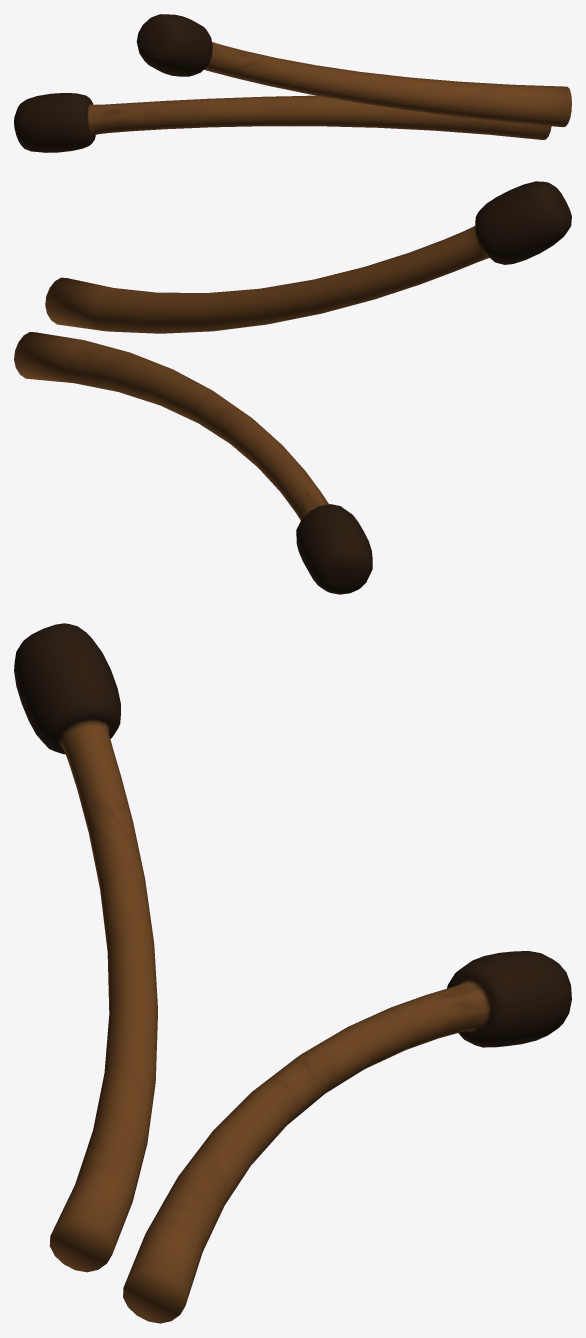
Rendered from AntenasDeLibelula.fbx.
3 renders of one model, top to bottom at view 1: azimuth 30°, elevation 25°; view 2: azimuth 150°, elevation 25°; view 3: azimuth 270°, elevation 25°, orthographic. The views are drawn at different scales.
Parts seen in each view (by area): view 1: Antenas de Libelula; view 2: Antenas de Libelula; view 3: Antenas de Libelula.
Boxes of the visible parts, x1,y1,x2,y2 form: Antenas de Libelula: (14,14,571,152); Antenas de Libelula: (14,181,571,594); Antenas de Libelula: (14,623,571,1323).
Bounding box in the file's own units: 152 × 82.06 × 106.
